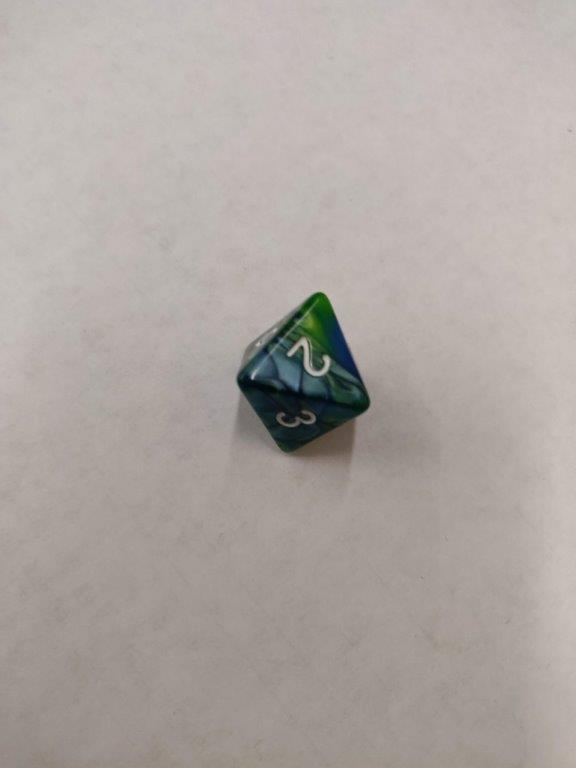d8-2: (236, 289, 375, 459)
